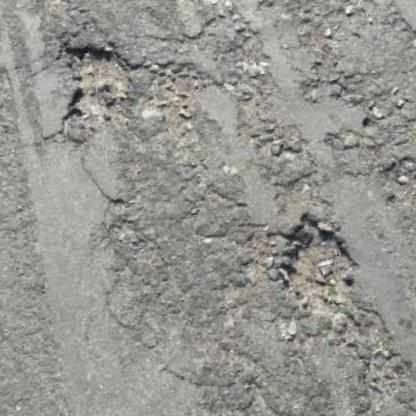pothole: (265, 201, 368, 323), (45, 27, 146, 141)
